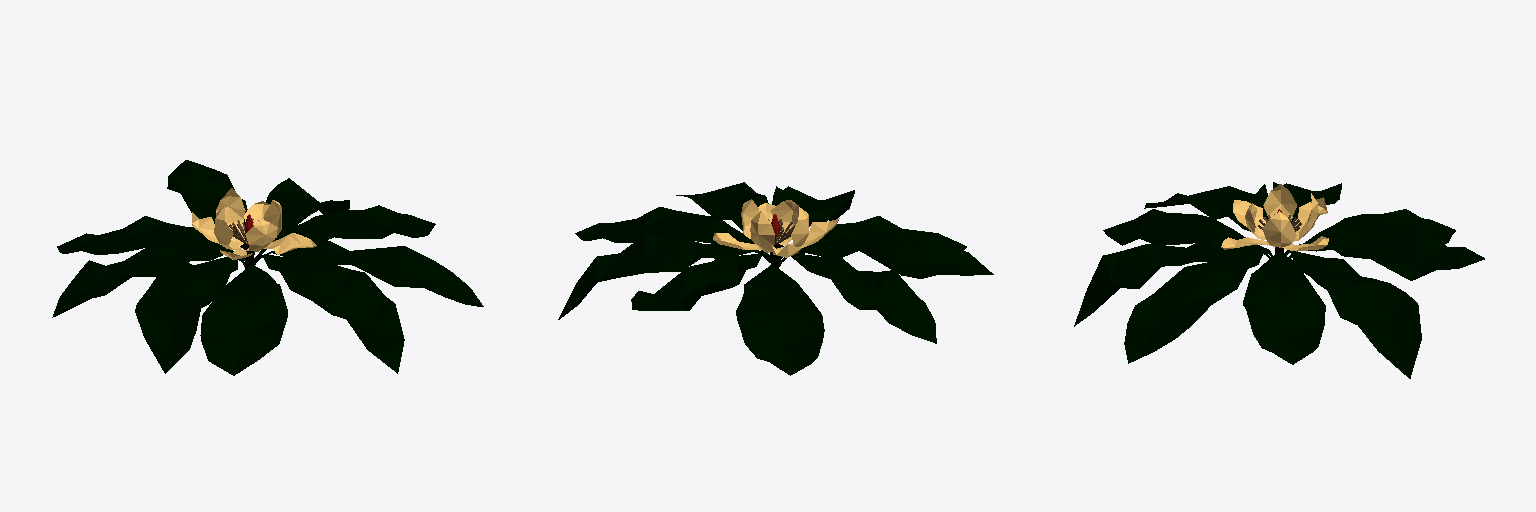
File: flower.obj
The picture shows the model from 3 angles: view 1: azimuth 30°, elevation 25°; view 2: azimuth 150°, elevation 25°; view 3: azimuth 270°, elevation 25°; orthographic projection.
Parts seen in each view (by area): view 1: lf2x2, lf6x3, lf8x2, lf3x3, lf4x3, lf1x2, lf9x2, lf7x3, lf5x3, pt1bx2, pt1ax, pt1dx2; view 2: lf9x2, lf4x3, lf5x3, lf8x2, lf1x2, lf7x3, lf2x2, lf3x3, lf6x3, pt1bx, pt1ax2; view 3: lf5x3, lf3x3, lf1x2, lf6x3, lf7x3, lf2x2, lf9x2, lf8x2, pt2ax, lf4x3, pt2cx2.
Part boxes in pixels (left/top/right/bottom): lf2x2: left=200, top=265, right=287, bottom=375; lf6x3: left=257, top=254, right=404, bottom=373; lf8x2: left=135, top=256, right=237, bottom=373; lf3x3: left=253, top=240, right=483, bottom=306; lf4x3: left=52, top=247, right=231, bottom=317; lf1x2: left=254, top=205, right=435, bottom=259; lf9x2: left=57, top=216, right=244, bottom=264; lf7x3: left=167, top=160, right=247, bottom=224; lf5x3: left=254, top=178, right=349, bottom=252; pt1bx2: left=216, top=188, right=246, bottom=244; pt1ax: left=245, top=219, right=277, bottom=251; pt1dx2: left=264, top=233, right=316, bottom=254; lf9x2: left=736, top=265, right=824, bottom=375; lf4x3: left=793, top=254, right=936, bottom=343; lf5x3: left=558, top=234, right=770, bottom=319; lf8x2: left=801, top=233, right=993, bottom=278; lf1x2: left=575, top=207, right=769, bottom=256; lf7x3: left=631, top=252, right=766, bottom=310; lf2x2: left=779, top=216, right=966, bottom=265; lf3x3: left=676, top=182, right=768, bottom=230; lf6x3: left=772, top=186, right=854, bottom=226; pt1bx: left=750, top=211, right=774, bottom=252; pt1ax2: left=770, top=200, right=798, bottom=244; lf5x3: left=1291, top=251, right=1421, bottom=378; lf3x3: left=1124, top=249, right=1264, bottom=363; lf1x2: left=1243, top=252, right=1325, bottom=364; lf6x3: left=1074, top=237, right=1266, bottom=326; lf7x3: left=1299, top=222, right=1484, bottom=280; lf2x2: left=1103, top=209, right=1270, bottom=257; lf9x2: left=1289, top=209, right=1455, bottom=257; lf8x2: left=1178, top=184, right=1268, bottom=230; pt2ax: left=1262, top=211, right=1296, bottom=247; lf4x3: left=1273, top=182, right=1341, bottom=222; pt2cx2: left=1263, top=184, right=1296, bottom=220.
Size of the model in its own units: 162 by 49.04 by 155.